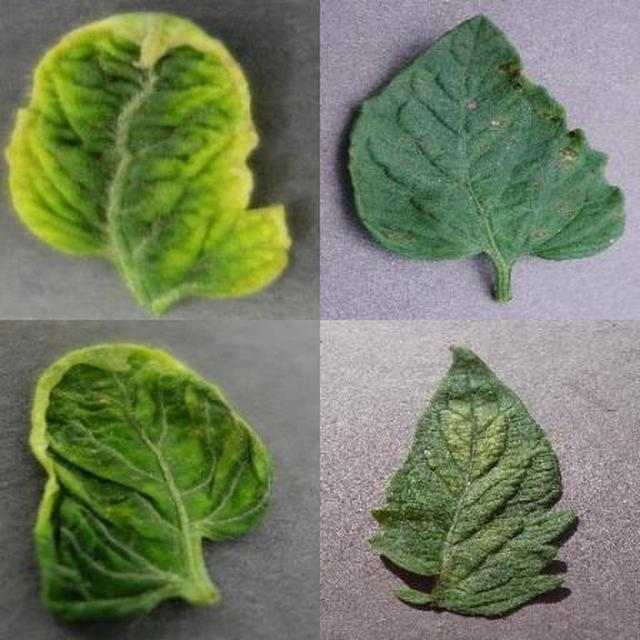Yellow Leaf Curl Virus: (214, 200, 640, 640)
